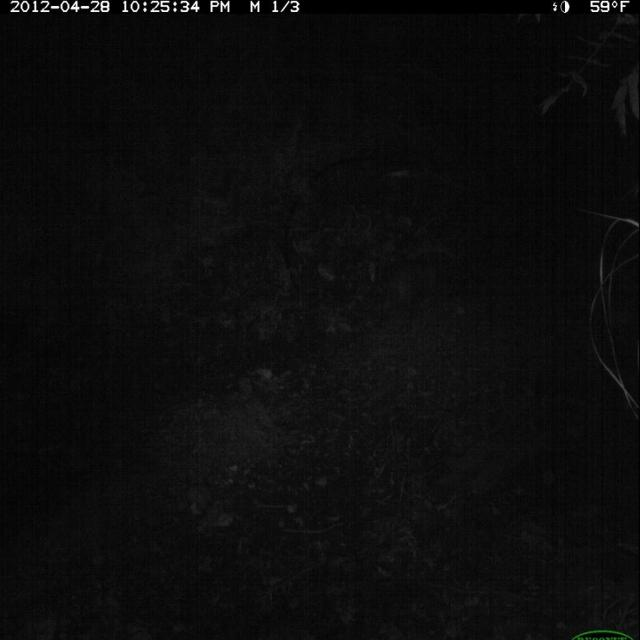opossum: (357, 242, 450, 326)
